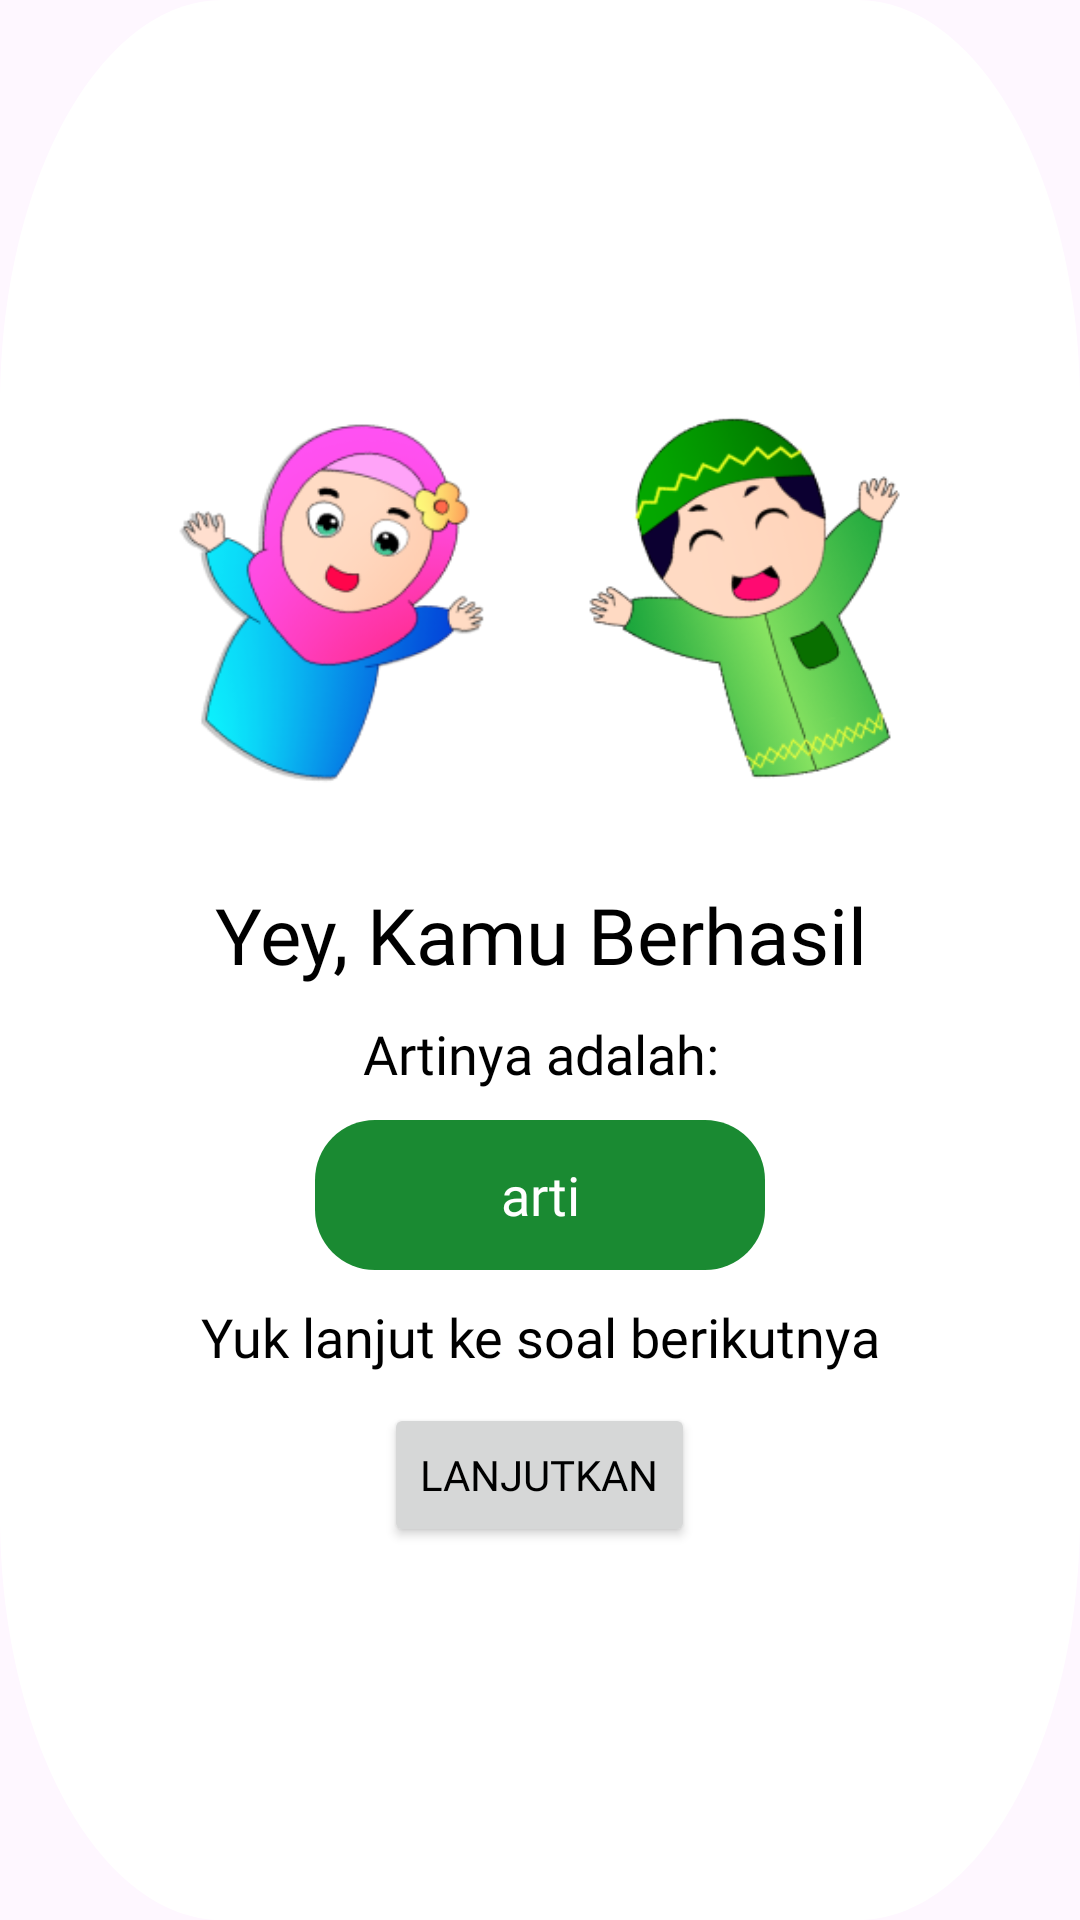

Where to tap for icons on this 1080w x 1920h app screen, as point (x, y):
child: point (744, 598), point (332, 602)
